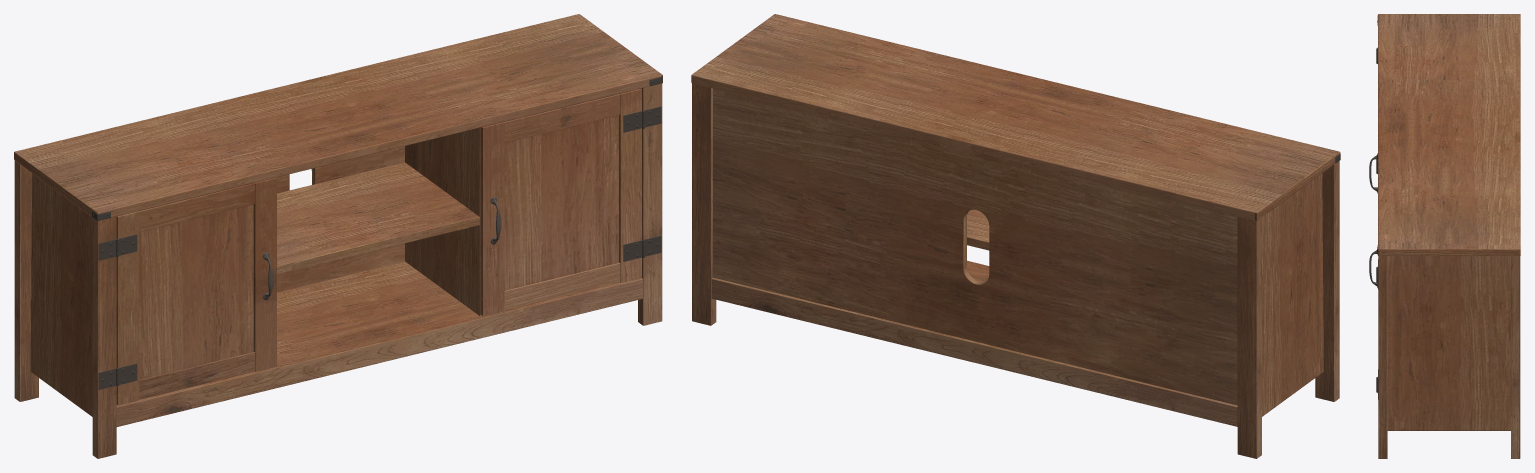
The model's file is abo-B07V38TBKP.glb.
3 renders of one model, left to right at view 1: azimuth 30°, elevation 25°; view 2: azimuth 150°, elevation 25°; view 3: azimuth 270°, elevation 25°, orthographic. The views are drawn at different scales.
Bounding box in the file's own units: 1.47 × 0.61 × 0.398.
1 material, 1 textured.
